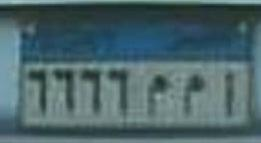6: (108, 66, 133, 112), (54, 66, 78, 110), (27, 68, 49, 115), (82, 67, 103, 112)
alif: (215, 68, 238, 115)
meem: (139, 71, 170, 114), (179, 72, 207, 114)
